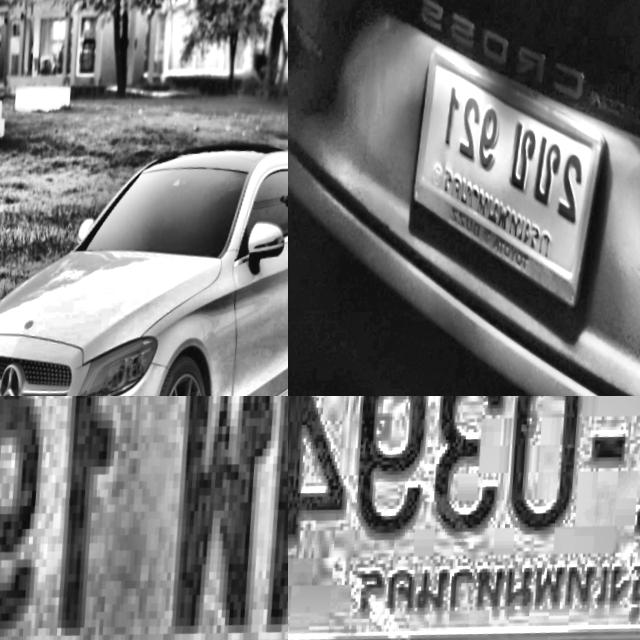license-plate: (288, 396, 640, 640), (0, 396, 288, 640), (396, 34, 618, 337)
